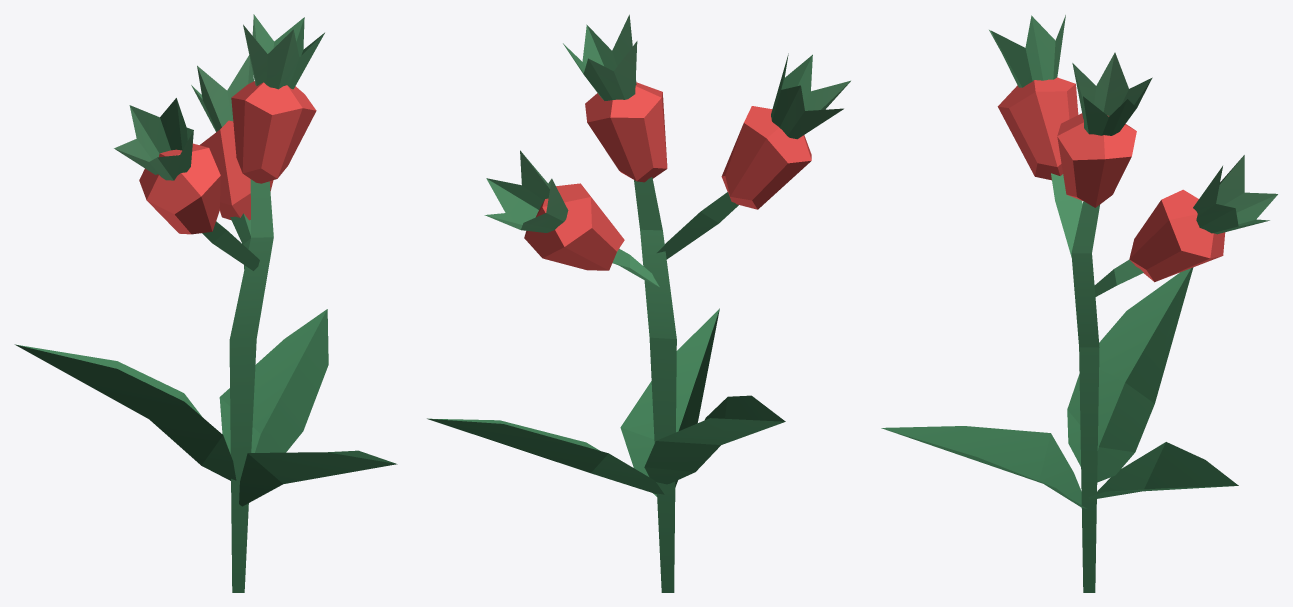
Rendered from Flower_A.fbx.
3 renders of one model, left to right at view 1: azimuth 30°, elevation 25°; view 2: azimuth 150°, elevation 25°; view 3: azimuth 270°, elevation 25°, orthographic.
Parts seen in each view (by area): view 1: Flower_A; view 2: Flower_A; view 3: Flower_A.
Boxes of the visible parts, x1=… form: Flower_A: x1=14, y1=14, x2=397, y2=592; Flower_A: x1=427, y1=14, x2=850, y2=592; Flower_A: x1=881, y1=15, x2=1277, y2=592.
Size of the model in its own units: 39.19 by 62.15 by 40.68.
